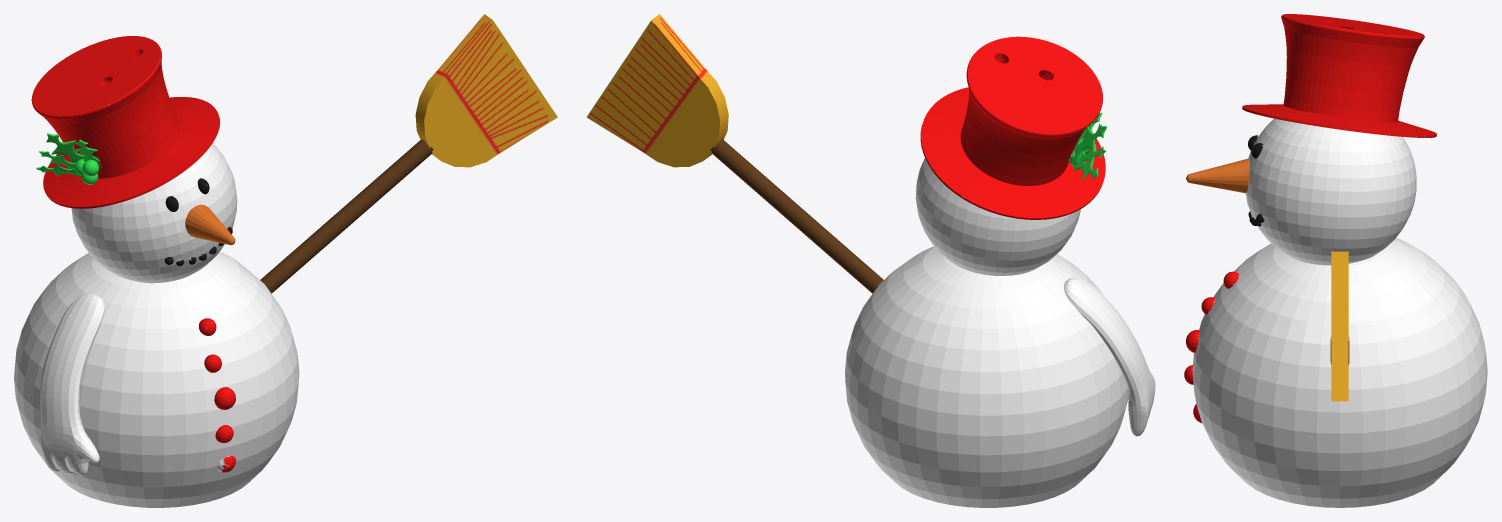
The model's file is Snow_Spade.fbx.
3 views of the same model, side by side, from view 1: azimuth 30°, elevation 25°; view 2: azimuth 150°, elevation 25°; view 3: azimuth 270°, elevation 25° (orthographic). The views are drawn at different scales.
Parts seen in each view (by area): view 1: snowman_gift, pCylinder3; view 2: snowman_gift, pCylinder3; view 3: snowman_gift, pCylinder3.
Boxes of the visible parts, <box> form: snowman_gift: <box>14,36,299,507</box>; pCylinder3: <box>260,14,557,293</box>; snowman_gift: <box>845,36,1155,507</box>; pCylinder3: <box>586,14,883,293</box>; snowman_gift: <box>1184,14,1487,507</box>; pCylinder3: <box>1330,251,1349,401</box>.
Size of the model in its own units: 6.21 by 4.68 by 2.95.
Materials: 1 (1 with a texture image).
